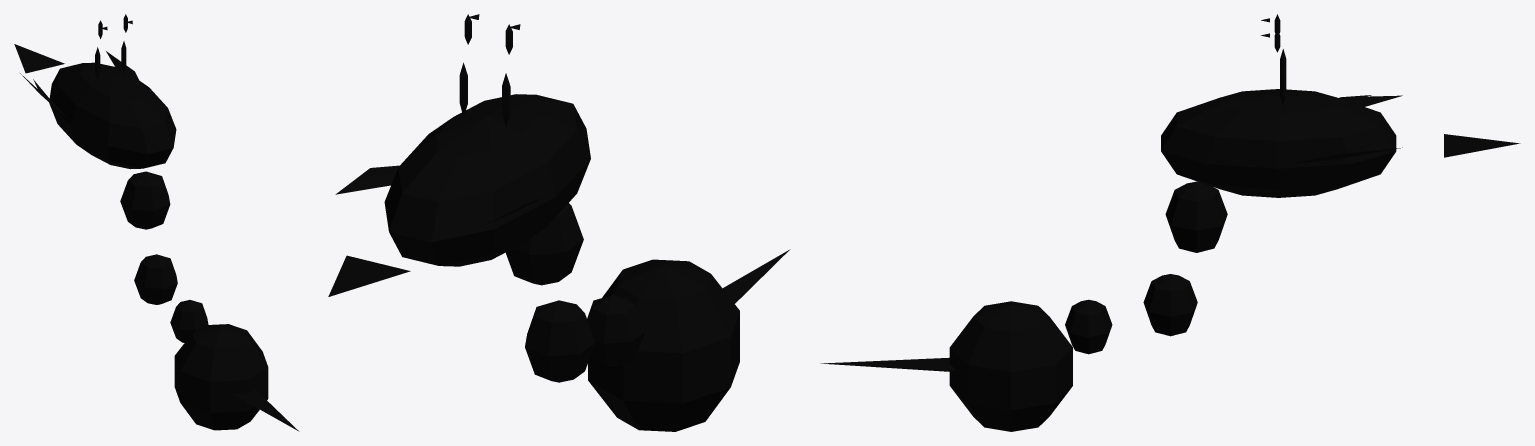
Rendered from standing.glb.
3 renders of one model, left to right at view 1: azimuth 30°, elevation 25°; view 2: azimuth 150°, elevation 25°; view 3: azimuth 270°, elevation 25°, orthographic. The views are drawn at different scales.
Visible parts, largest first — view 1: BirdBody; view 2: BirdBody; view 3: BirdBody.
Part boxes in pixels (left/top/right/bottom): BirdBody: left=14, top=14, right=299, bottom=431; BirdBody: left=328, top=14, right=790, bottom=431; BirdBody: left=820, top=14, right=1520, bottom=431.
Bounding box in the file's own units: 0.4769 × 1.6 × 2.49.
Materials: 1 (1 with a texture image).
